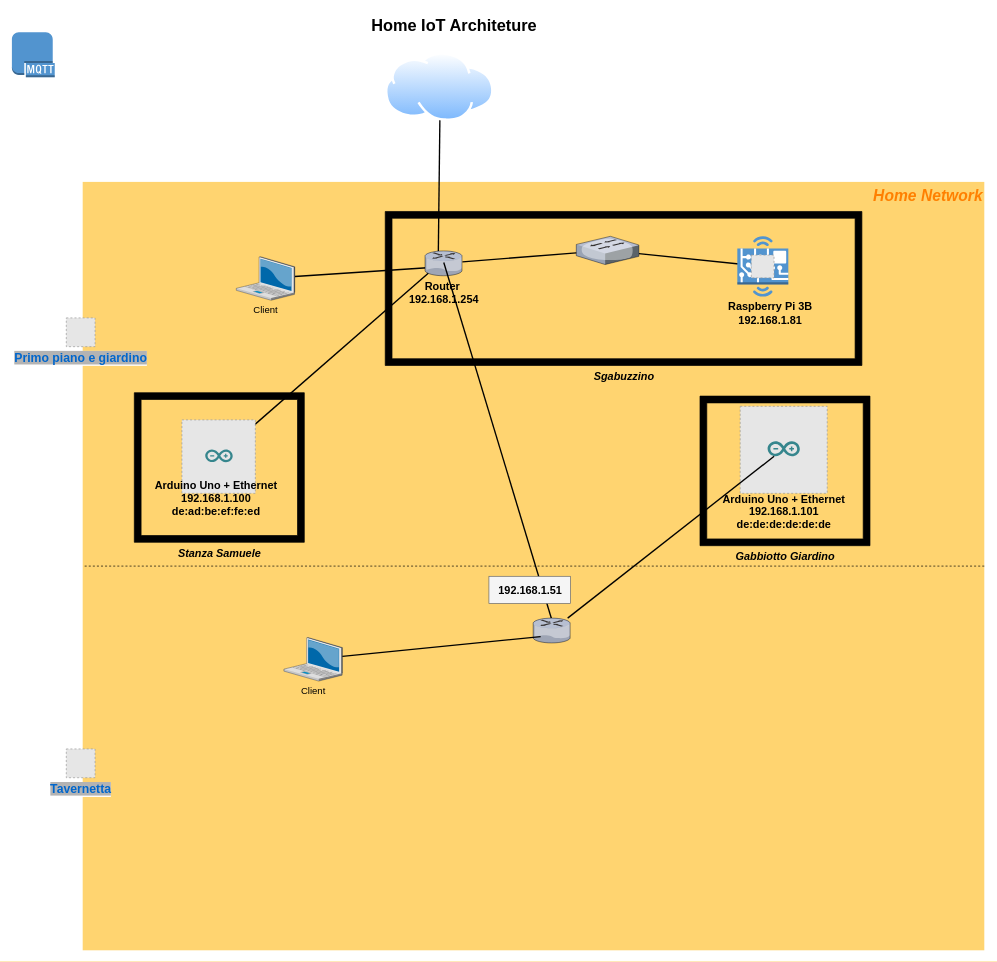
This 997x962 diagram has some shape labels left out. Grey dashed boxes stand in for pictures. The shapes that lost their labels are listed below. From the top down, each one's centre as x and y in pixels, then its label:
At (x=439, y=86): "Internet".
At (x=607, y=250): "Switch Sitecom".
At (x=551, y=630): "Router 192.168.0.1 c4:e9:84:89:e0:17".
